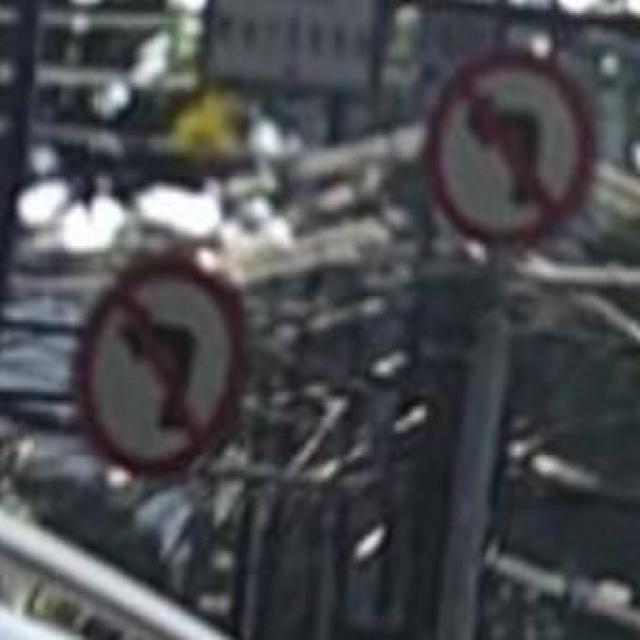traffic sign: (84, 274, 239, 464), (436, 55, 591, 242)
